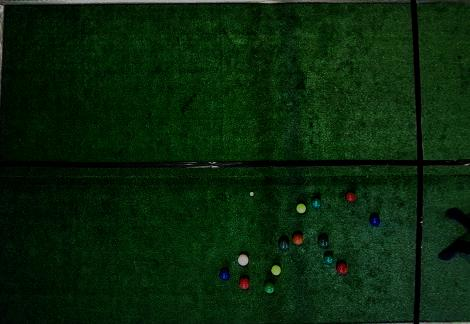blue: (219, 269, 230, 280), (370, 215, 380, 226)
green: (278, 239, 289, 252), (264, 282, 275, 294), (318, 237, 329, 249), (311, 197, 321, 209), (324, 254, 334, 265)
red: (239, 276, 250, 291), (336, 262, 348, 275), (291, 233, 303, 245), (237, 254, 249, 266), (345, 192, 356, 202)
vline: (410, 0, 469, 323), (0, 0, 8, 323)
white: (250, 192, 254, 196)
yellow: (296, 202, 307, 214), (271, 265, 281, 276)
